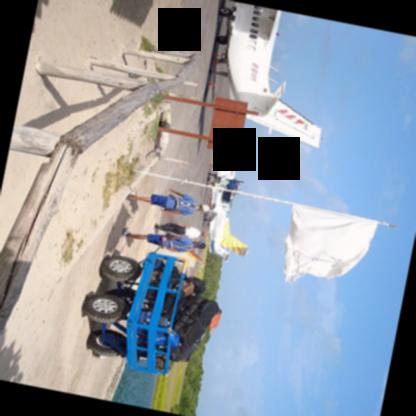suitcase: (167, 279, 193, 299), (156, 330, 179, 345), (160, 295, 174, 314)
